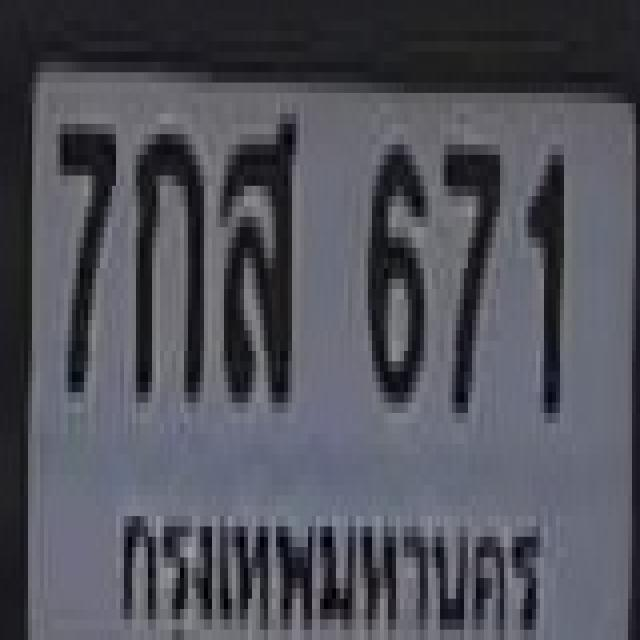1: (524, 144, 560, 413)
6: (364, 134, 420, 392)
7: (56, 113, 112, 382), (440, 134, 496, 403)
A01: (132, 124, 200, 392)
A40: (218, 103, 290, 392)
BKK: (104, 487, 543, 640)
